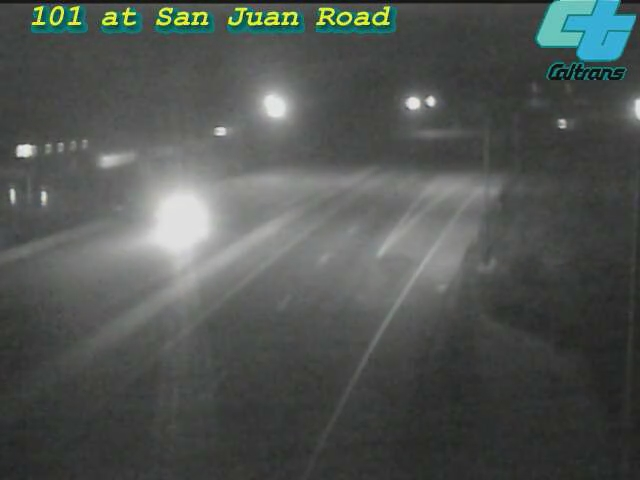vehicle: (139, 179, 219, 259)
